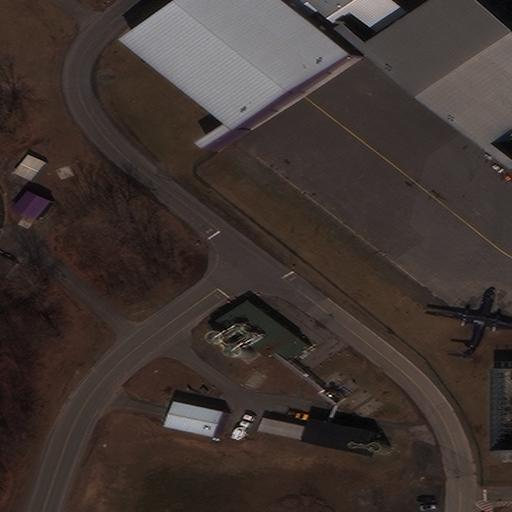Medium Civil Transport: (426, 287, 512, 360)
